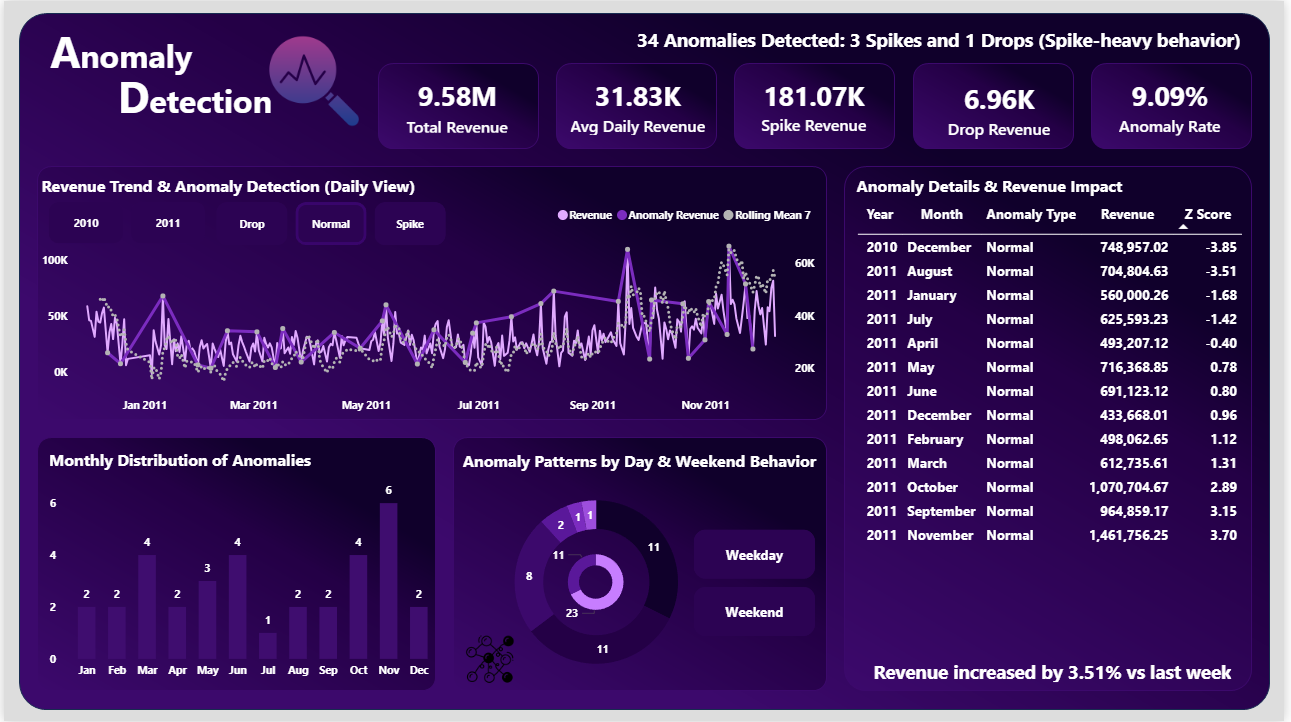

Layout of this report page (visuals, bound fields, positions):
{"tool":"powerbi","page":{"name":"Time-Series Analysis","canvas":[1280,720],"ordinal":0},"visuals":[{"type":"image","box":[448.8,633.8,73.8,48.8],"z":0},{"type":"lineChart","title":"Revenue Trend & Anomaly Detection (Daily View)","fields":{"Y":["Sum(daily_anomaly_data.Revenue)","daily_anomaly_data.Anomaly Revenue"],"Category":["Date_Dim.Date.Variation.Date Hierarchy.Year","Date_Dim.Date.Variation.Date Hierarchy.Month","Date_Dim.Date.Variation.Date Hierarchy.Day"],"Y2":["Sum(daily_anomaly_data.Rolling_Mean_7)"]},"box":[32.5,173.8,783.8,247.5],"z":1000},{"type":"advancedSlicerVisual","fields":{"Values":["Date_Dim.Year"]},"box":[40,196.2,167.5,51.2],"z":2000},{"type":"donutChart","fields":{"Y":["_Measueres.Total Anomalies"],"Category":["Date_Dim.Day Name"]},"box":[432.5,463.8,320,235],"z":3000},{"type":"cardVisual","fields":{"Data":["_Measueres.Total Revenue"]},"box":[371.4,64.3,164.3,85.7],"z":4000},{"type":"advancedSlicerVisual","fields":{"Values":["Date_Dim.Weekend_Label"]},"box":[685,523.8,131.2,117.5],"z":5000},{"type":"cardVisual","fields":{"Data":["_Measueres.Anomaly Insight"]},"box":[602.9,8.6,665.7,57.1],"z":6000},{"type":"advancedSlicerVisual","fields":{"Values":["daily_anomaly_data.Anomaly_Type"]},"box":[207.5,196.2,241.2,53.8],"z":7000},{"type":"cardVisual","fields":{"Data":["_Measueres.Avg Daily Revenue"]},"box":[535.7,60,195.7,91.4],"z":8000},{"type":"cardVisual","fields":{"Data":["daily_anomaly_data.Spike Revenue"]},"box":[725.7,57.1,167.1,95.7],"z":9000},{"type":"tableEx","title":"Anomaly Details & Revenue Impact ","fields":{"Values":["Date_Dim.Date.Variation.Date Hierarchy.Year","Date_Dim.Date.Variation.Date Hierarchy.Month","daily_anomaly_data.Anomaly_Type","Sum(daily_anomaly_data.Revenue)","Sum(daily_anomaly_data.Z_Score)"]},"box":[847.1,174.3,401.4,508.6],"z":10000},{"type":"columnChart","title":"Monthly Distribution of Anomalies","fields":{"Y":["_Measueres.Total Anomalies"],"Category":["Date_Dim.Month"]},"box":[40,447.1,401.4,238.6],"z":11000},{"type":"cardVisual","fields":{"Data":["_Measueres.Anomaly Rate"]},"box":[1084.3,55.7,164.3,98.6],"z":12000},{"type":"cardVisual","fields":{"Data":["daily_anomaly_data.Drop Revenue"]},"box":[912.9,61.4,165.7,94.3],"z":13000},{"type":"donutChart","fields":{"Category":["Date_Dim.Weekend_Label"],"Y":["_Measueres.Total Anomalies"]},"box":[538.8,536.2,106.2,90],"z":14000},{"type":"cardVisual","fields":{"Data":["_Measueres.Revenue WoW Insight"]},"box":[840,641.4,417.1,57.1],"z":15000},{"type":"textbox","box":[454.3,444.3,378.6,38.6],"z":16000},{"type":"textbox","box":[41.2,16.2,172.5,67.5],"z":17000},{"type":"textbox","box":[108.8,61.2,180,71.2],"z":18000},{"type":"image","box":[255,30,108.8,100],"z":19000}]}

Visuals, with their boxes in screenshot pixels (x1, y1, x2, y2), scaled from the page's 1280x720 canvas onto the 1291x722 screenshot:
image: 453/636/527/684
"Revenue Trend & Anomaly Detection (Daily View)" lineChart: 33/174/823/422
advancedSlicerVisual - Date_Dim.Year: 40/197/209/248
donutChart - _Measueres.Total Anomalies x Date_Dim.Day Name: 436/465/759/701
cardVisual - _Measueres.Total Revenue: 375/64/540/150
advancedSlicerVisual - Date_Dim.Weekend_Label: 691/525/823/643
cardVisual - _Measueres.Anomaly Insight: 608/9/1280/66
advancedSlicerVisual - daily_anomaly_data.Anomaly_Type: 209/197/453/251
cardVisual - _Measueres.Avg Daily Revenue: 540/60/738/152
cardVisual - daily_anomaly_data.Spike Revenue: 732/57/900/153
"Anomaly Details & Revenue Impact " tableEx: 854/175/1259/685
"Monthly Distribution of Anomalies" columnChart: 40/448/445/688
cardVisual - _Measueres.Anomaly Rate: 1094/56/1259/155
cardVisual - daily_anomaly_data.Drop Revenue: 921/62/1088/156
donutChart - Date_Dim.Weekend_Label x _Measueres.Total Anomalies: 543/538/651/628
cardVisual - _Measueres.Revenue WoW Insight: 847/643/1268/700
textbox: 458/446/840/484
textbox: 42/16/216/84
textbox: 110/61/291/133
image: 257/30/367/130
